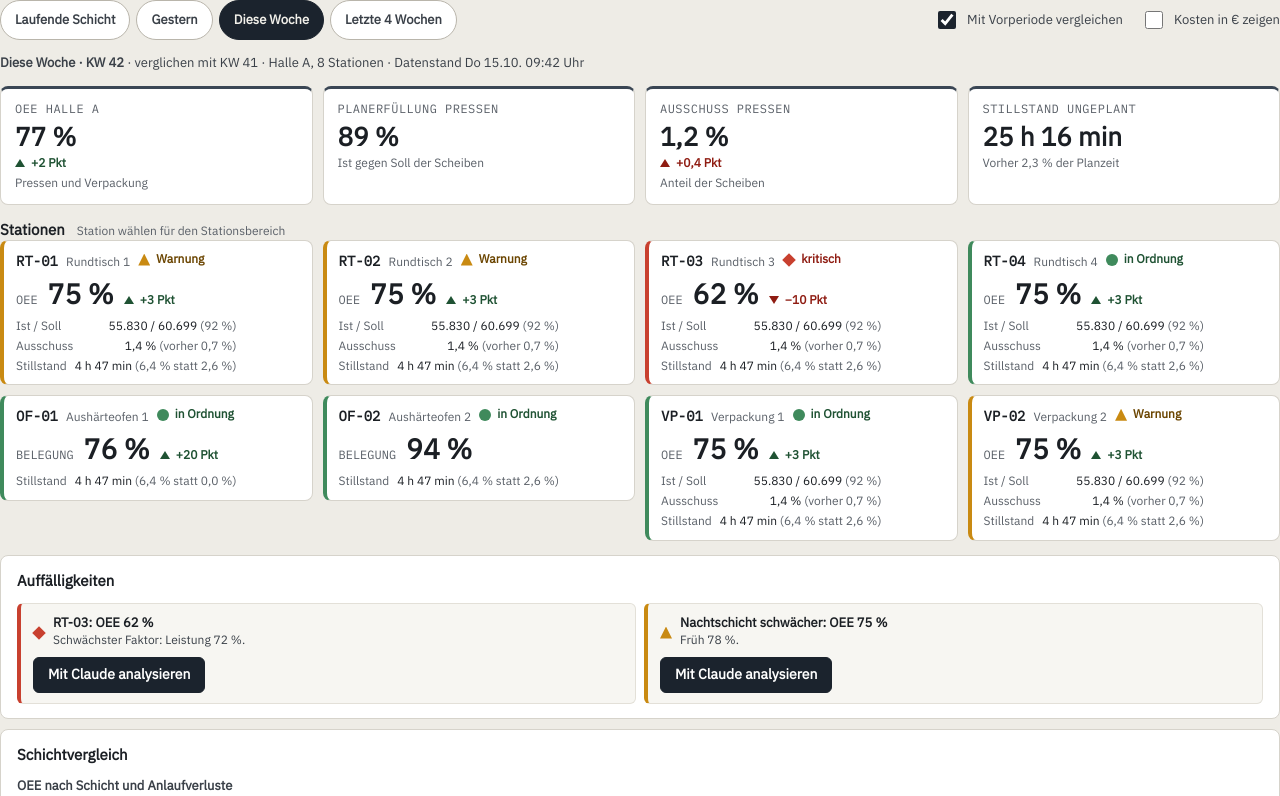
Scenario: Raster der Stationen › lädt für die Rolle den Startzeitraum mit Vergleich und zeigt Kosten nur auf Wunsch
Expected: the element with class "mc-kpis" shows "77 %", [15,119,76,153]
Expected: the element with class "mc-kpis" does not show "Kosten der Verluste"
Step 1. Click the text "Mit Vorperiode vergleichen" → (1045,20), box [967,11,1123,29]
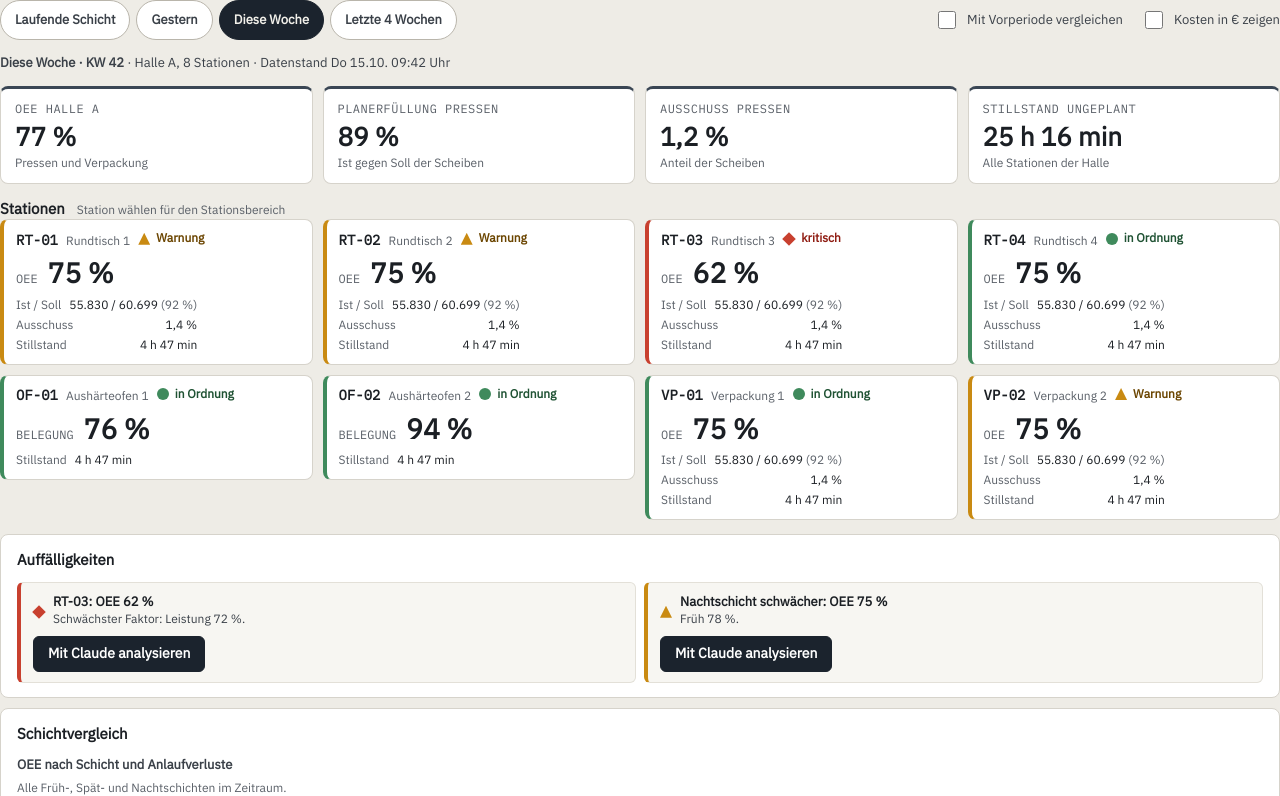
Step 2. Click the checkbox labelled "Kosten in € zeigen" → (1154,20), box [1145,11,1163,29]
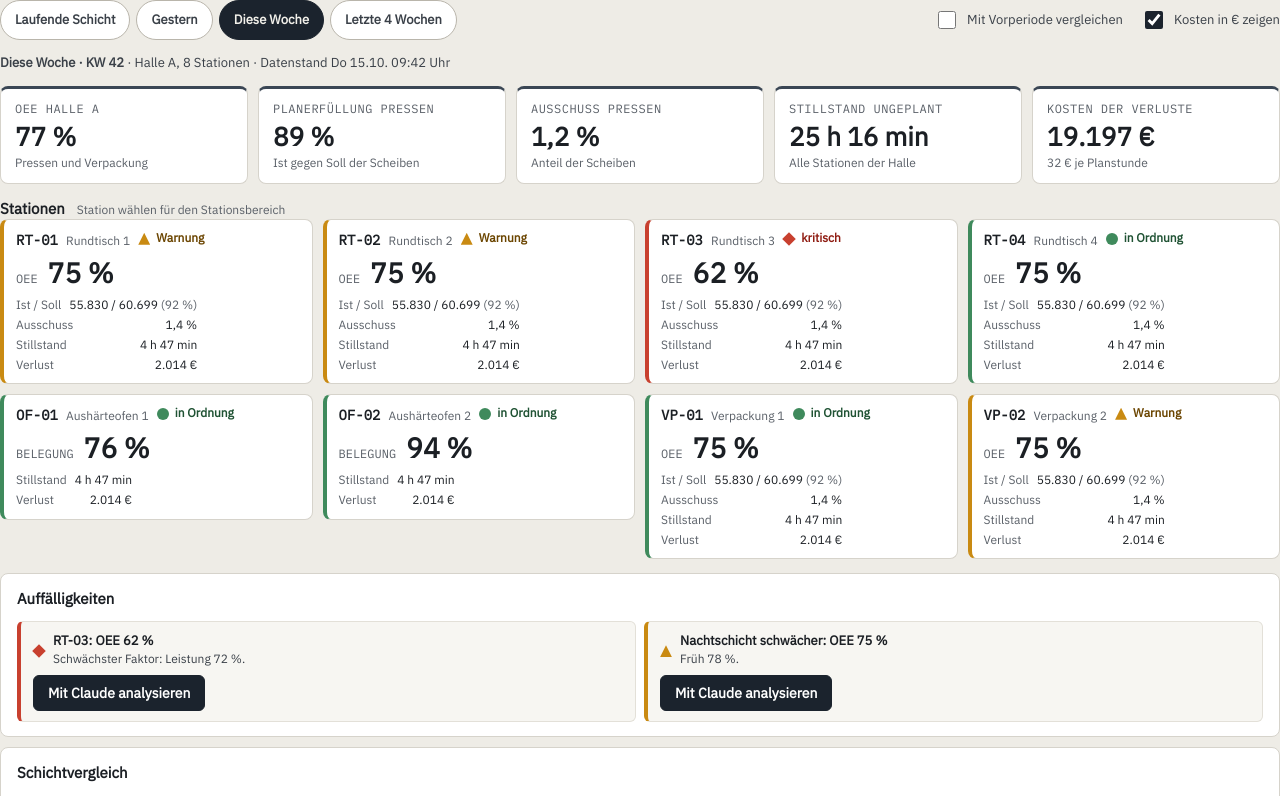
Expected: the element with class "mc-kpis" shows "Kosten der Verluste", [1047,101,1193,116]
